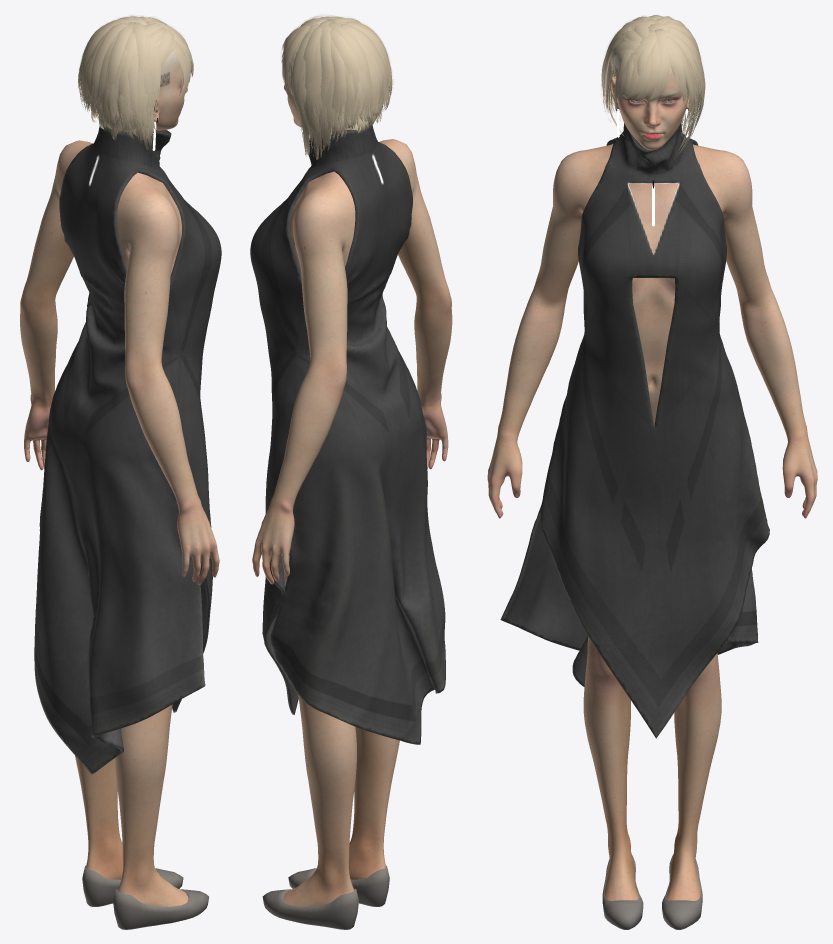
The model's file is scifi_girl_v.01.glb.
3 views of the same model, side by side, from view 1: azimuth 30°, elevation 25°; view 2: azimuth 150°, elevation 25°; view 3: azimuth 270°, elevation 25° (orthographic).
Visible parts, largest first — view 1: Object_3, Object_2, Object_14, Object_15; view 2: Object_3, Object_2, Object_14, Object_15; view 3: Object_3, Object_2, Object_14.
Boxes of the visible parts, <box> form: Object_3: <box>34,119,221,929</box>; Object_2: <box>20,22,219,906</box>; Object_14: <box>78,16,193,149</box>; Object_15: <box>80,15,183,122</box>; Object_3: <box>250,118,445,929</box>; Object_2: <box>252,22,452,906</box>; Object_14: <box>281,16,392,159</box>; Object_15: <box>281,14,392,126</box>; Object_3: <box>500,123,769,929</box>; Object_2: <box>487,22,817,900</box>; Object_14: <box>601,15,705,159</box>.
Size of what is drawn, in the model's own units: 0.3232 by 1.93 by 0.6599.
Materials: 11 (7 with a texture image).
